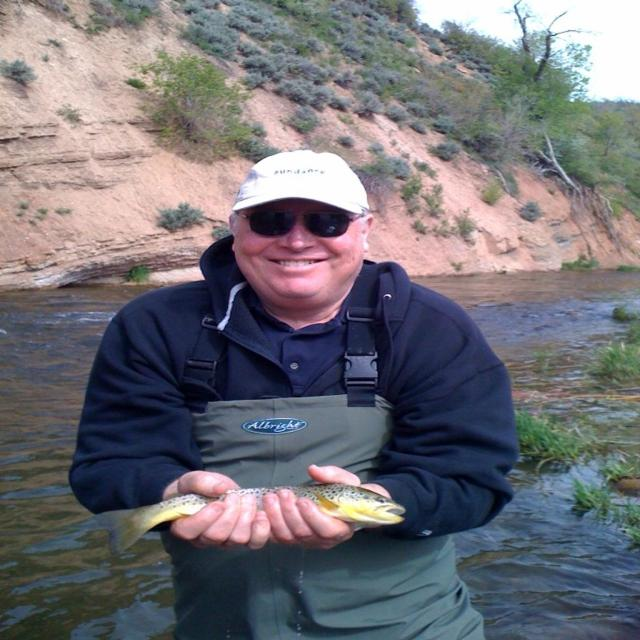Face: (223, 189, 376, 305)
